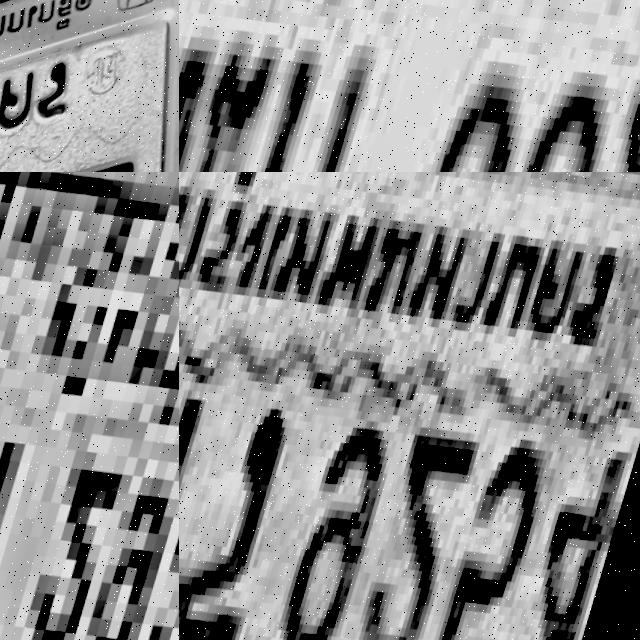license-plate: (179, 172, 640, 640), (0, 172, 179, 640), (179, 0, 640, 172), (0, 0, 179, 172)
